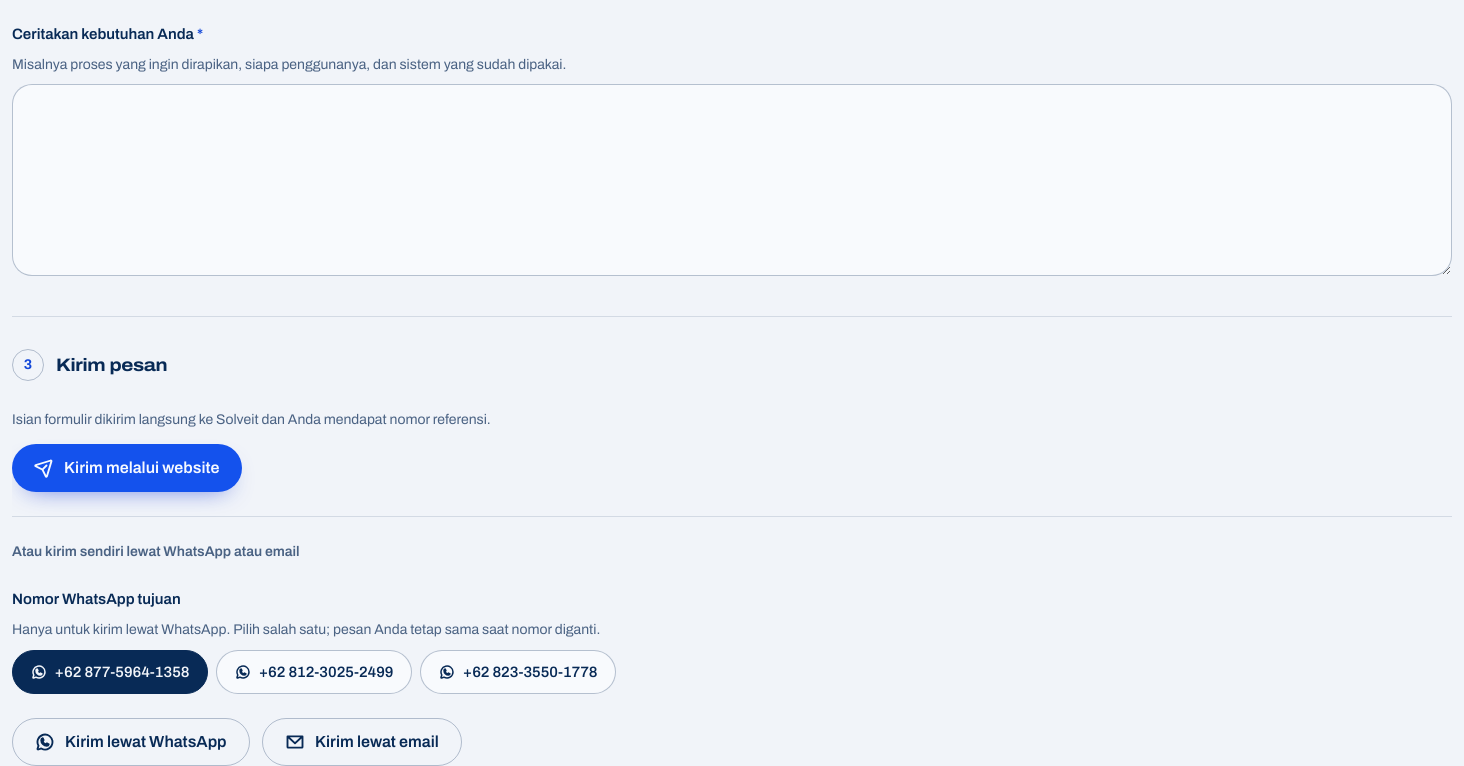
it: InquiryForm with the website channel › validates before sending anything
This screenshot has width=1464, height=766.
(page scrolled)
Click the button "Kirim melalui website".
click(127, 468)  # box [12, 444, 242, 492]
(page scrolled)
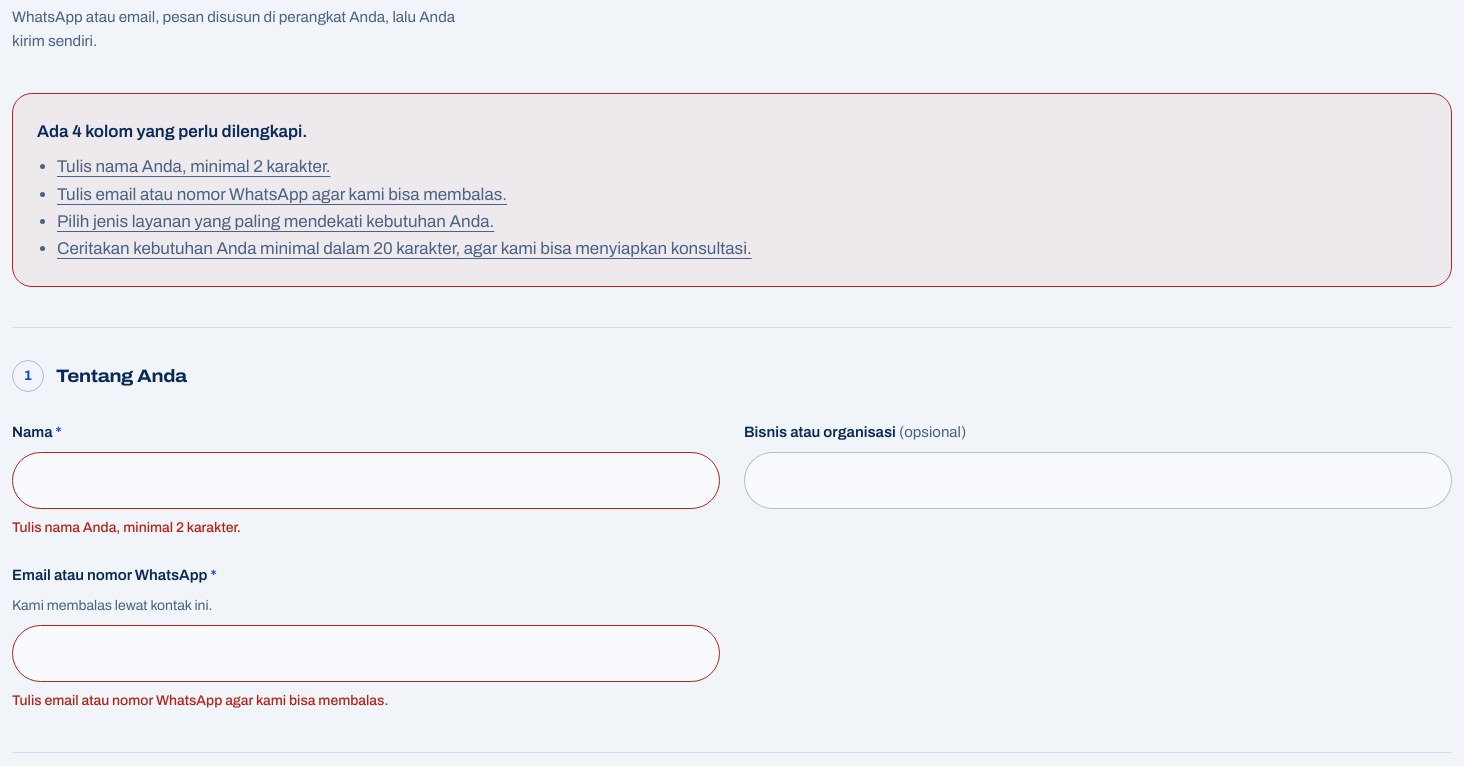
Expected: the message shows "Ada 4 kolom yang perlu dilengkapi.", [37, 122, 307, 141]
